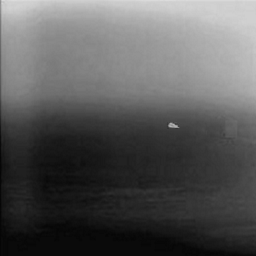Target: (166, 121, 181, 129)
